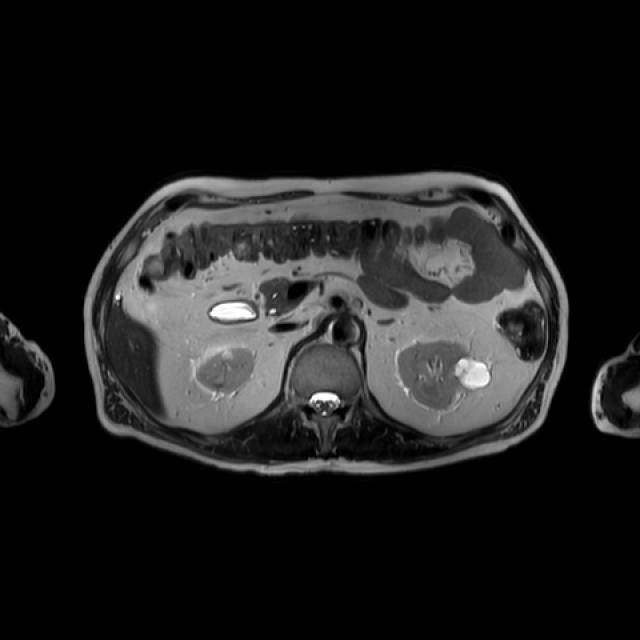sag: (198, 346, 256, 393)
sol: (398, 339, 493, 413)
